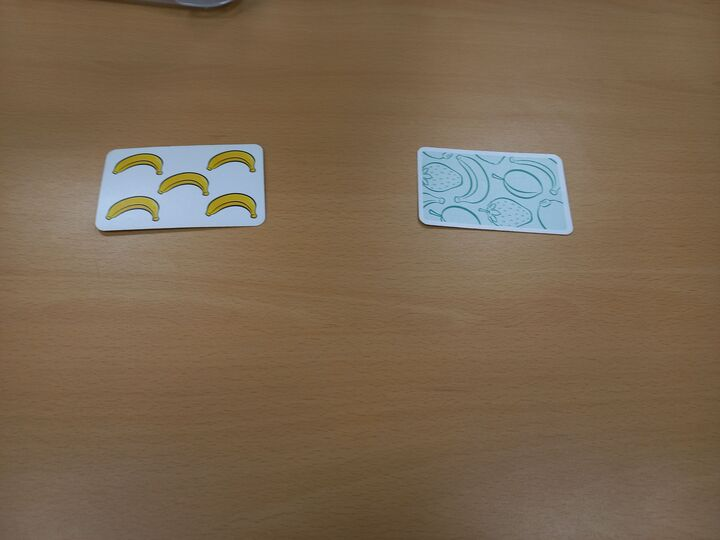banana5: (95, 141, 267, 233)
